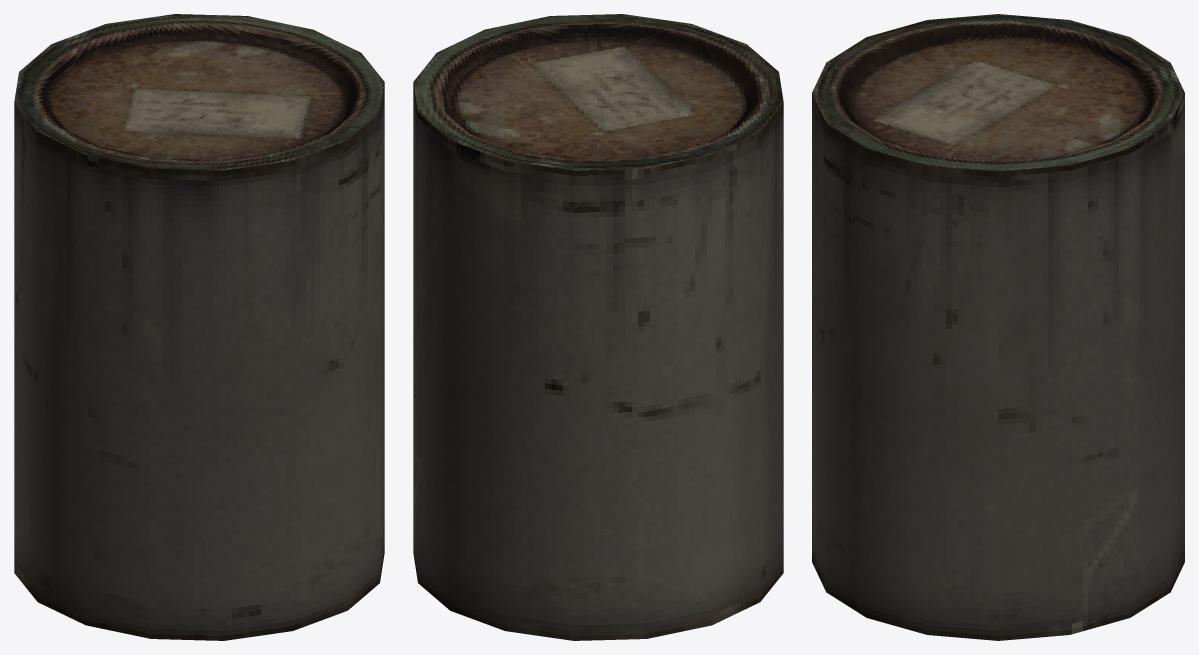
Rendered from paint_can_mx_1.glb.
3 views of the same model, side by side, from view 1: azimuth 30°, elevation 25°; view 2: azimuth 150°, elevation 25°; view 3: azimuth 270°, elevation 25° (orthographic).
Parts seen in each view (by area): view 1: paint_can_mx_1; view 2: paint_can_mx_1; view 3: paint_can_mx_1.
Boxes of the visible parts, x1,y1,x2,y2 form: paint_can_mx_1: [14, 14, 384, 640]; paint_can_mx_1: [413, 14, 783, 640]; paint_can_mx_1: [812, 14, 1184, 640].
Bounding box in the file's own units: 0.18 × 0.25 × 0.18.
Materials: 1 (1 with a texture image).
